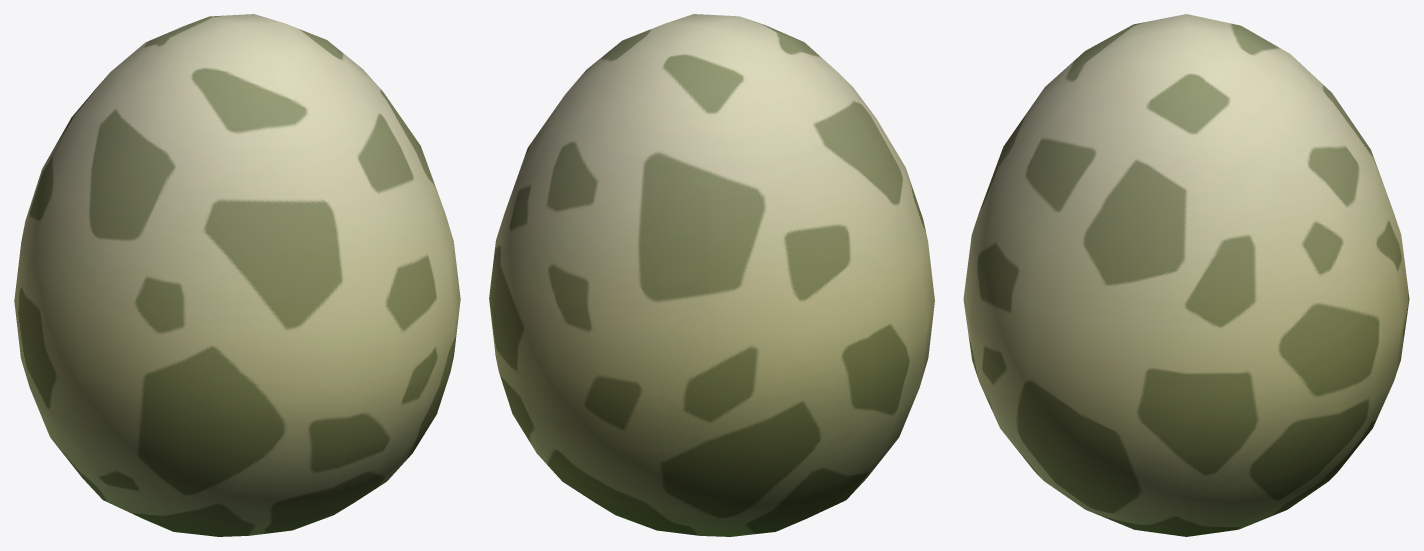
Rendered from CHAR_DinoEgg_A.fbx.
The picture shows the model from 3 angles, left to right: view 1: azimuth 30°, elevation 25°; view 2: azimuth 150°, elevation 25°; view 3: azimuth 270°, elevation 25°; orthographic projection.
Parts seen in each view (by area): view 1: CHAR_DinoEgg_A; view 2: CHAR_DinoEgg_A; view 3: CHAR_DinoEgg_A.
Part boxes in pixels (x1=…): CHAR_DinoEgg_A: x1=14, y1=14, x2=460, y2=536; CHAR_DinoEgg_A: x1=489, y1=14, x2=934, y2=536; CHAR_DinoEgg_A: x1=963, y1=14, x2=1409, y2=536.
Size of the model in its own units: 10.9 by 13.23 by 11.02.
